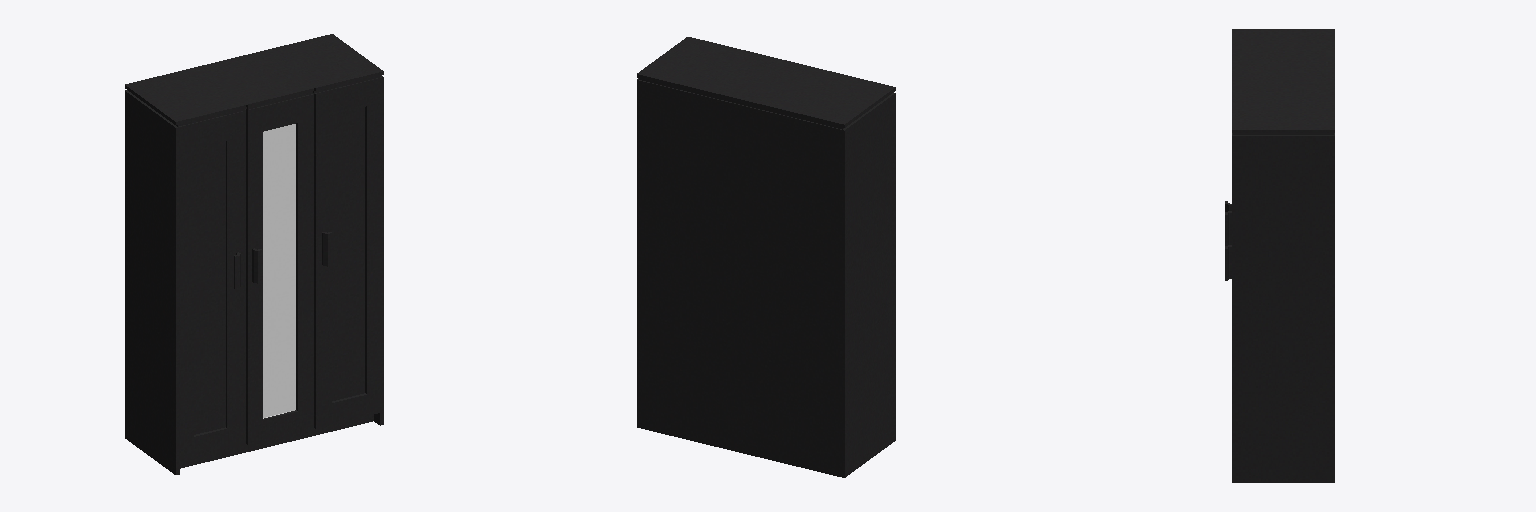
The picture shows the model from 3 angles: view 1: azimuth 30°, elevation 25°; view 2: azimuth 150°, elevation 25°; view 3: azimuth 270°, elevation 25°; orthographic projection.
Parts seen in each view (by area): view 1: pCube6; view 2: pCube6; view 3: pCube6.
Part boxes in pixels (bbox=[...]): pCube6: bbox=[125, 34, 383, 474]; pCube6: bbox=[637, 37, 895, 477]; pCube6: bbox=[1225, 29, 1334, 482].
Size of the model in its own units: 11.7 by 19 by 5.35.
Materials: 1 (1 with a texture image).